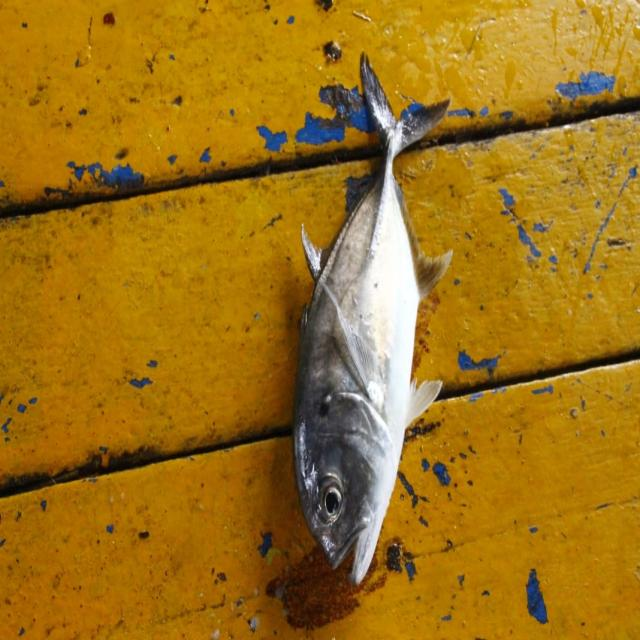ikan: (291, 49, 454, 585)
